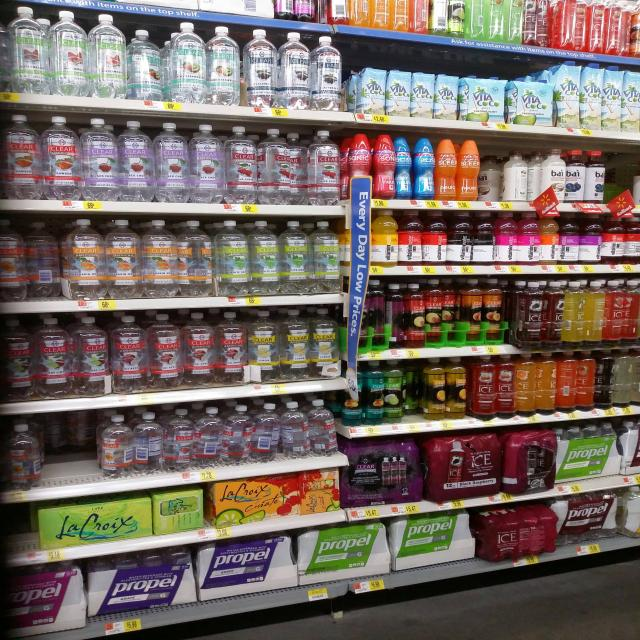empty: (601, 144, 631, 208)
